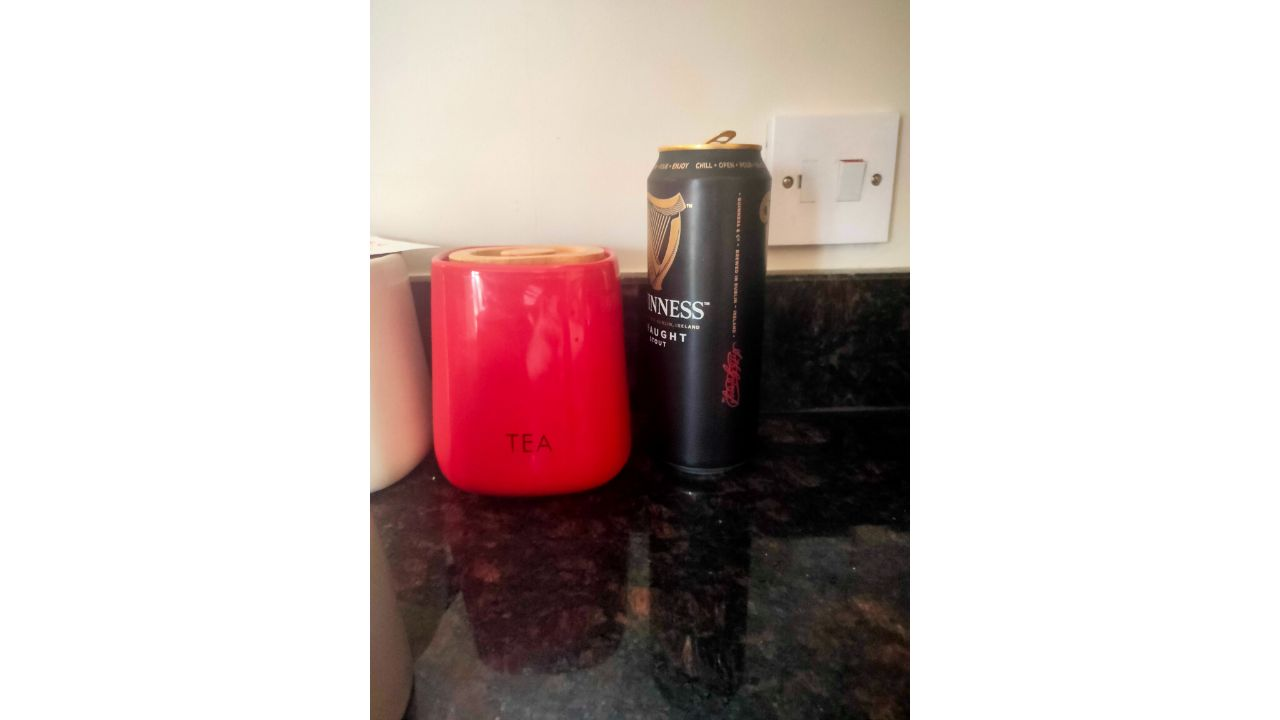Can: (637, 129, 777, 498)
